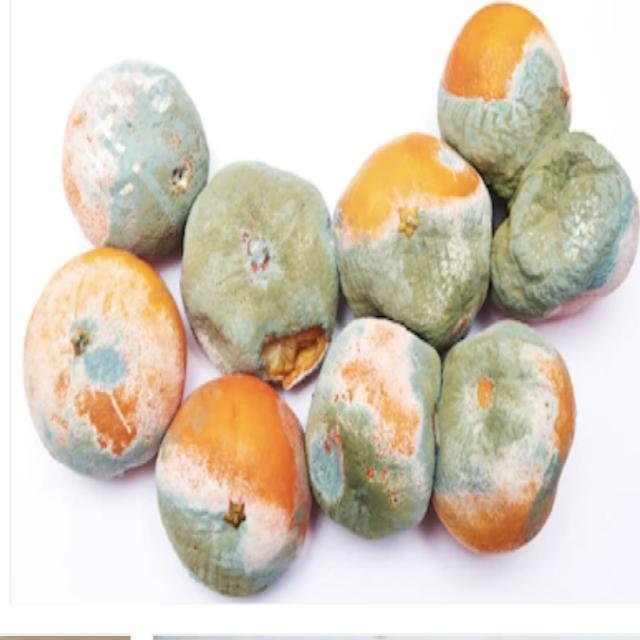sangat-busuk: (181, 162, 338, 390), (156, 374, 311, 595), (334, 133, 492, 349), (432, 321, 573, 552), (305, 320, 440, 537), (63, 60, 208, 256), (492, 132, 637, 321), (438, 4, 570, 197)
sedikit-busuk: (23, 248, 186, 476)
